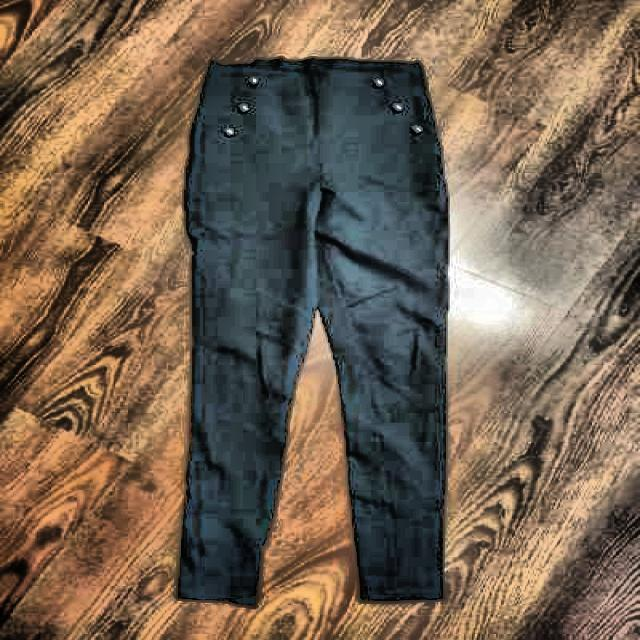clothes: (176, 53, 458, 612)
